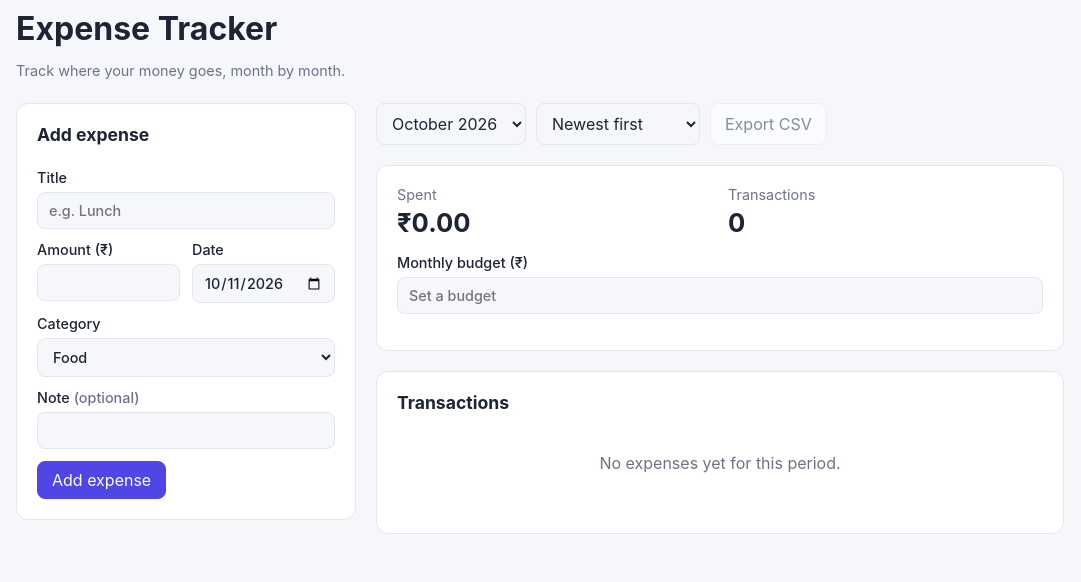
App › adds an expense and updates the total
Type "Biryani" into the field labelled "Title".
click(186, 211); type("Biryani")  # box [37,192,335,229]
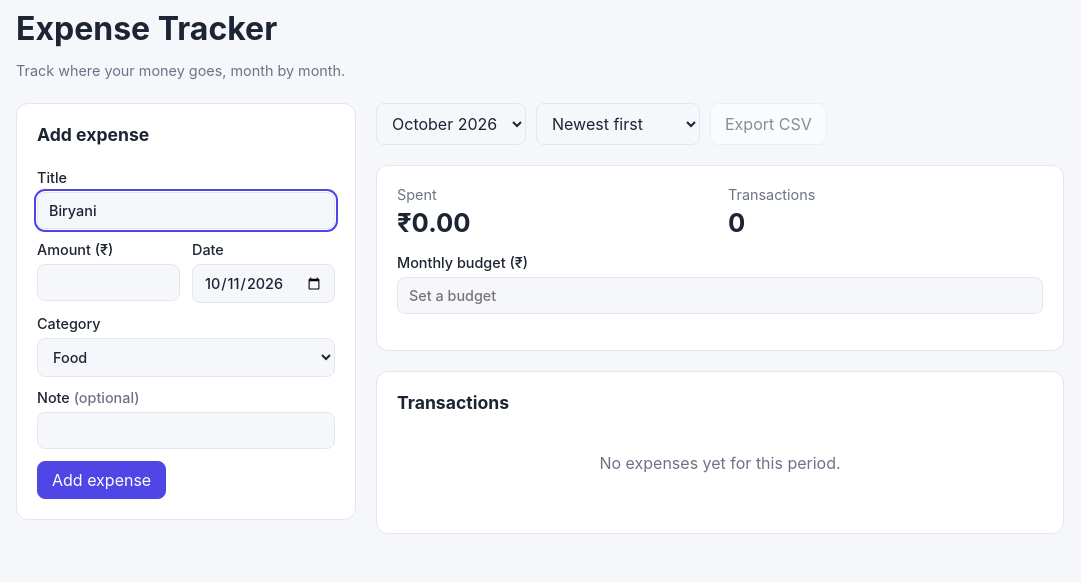
Type "320" into the number field labelled "Amount (₹)".
click(108, 283); type("320")  # box [37,264,180,301]
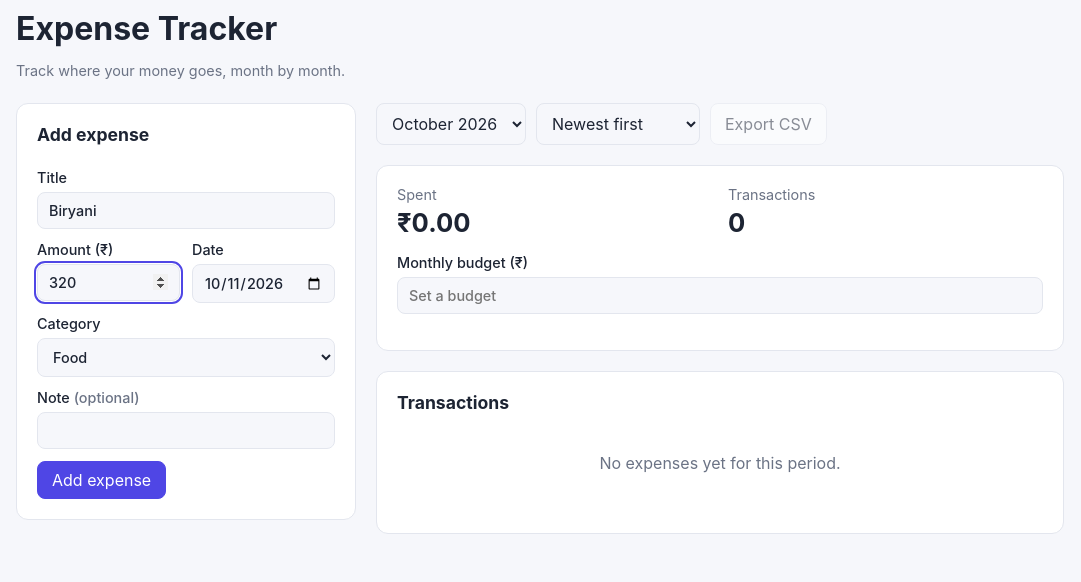
Click the button "Add expense".
click(102, 480)  # box [37,461,166,499]
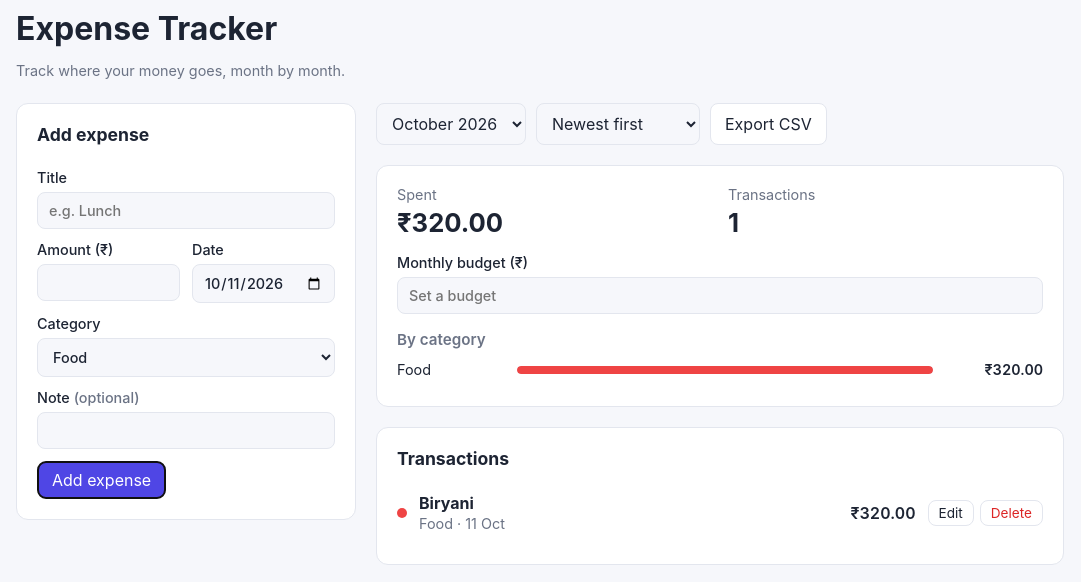
Result: the text "Biryani" is shown at [419,493,474,513]
Result: the text with test id "total" shows "320" at [397,207,503,238]
